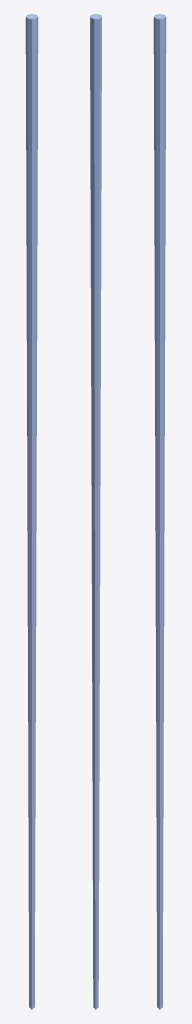
File: luxor_beam.glb
The picture shows the model from 3 angles, left to right: view 1: azimuth 90°, elevation 25°; view 2: azimuth 210°, elevation 25°; view 3: azimuth 270°, elevation 25°; orthographic projection.
Visible parts, largest first — view 1: Luxor_Beam; view 2: Luxor_Beam; view 3: Luxor_Beam.
Boxes of the visible parts, <box> form: Luxor_Beam: <box>25,14,38,1009</box>; Luxor_Beam: <box>90,14,101,1009</box>; Luxor_Beam: <box>153,14,166,1009</box>.
Bounding box in the file's own units: 16 × 1391 × 16.
